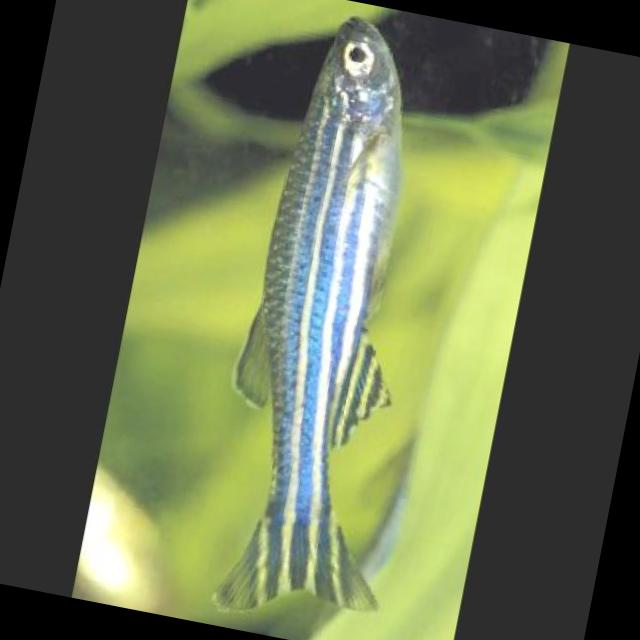ZebraFish: (184, 2, 488, 634)
